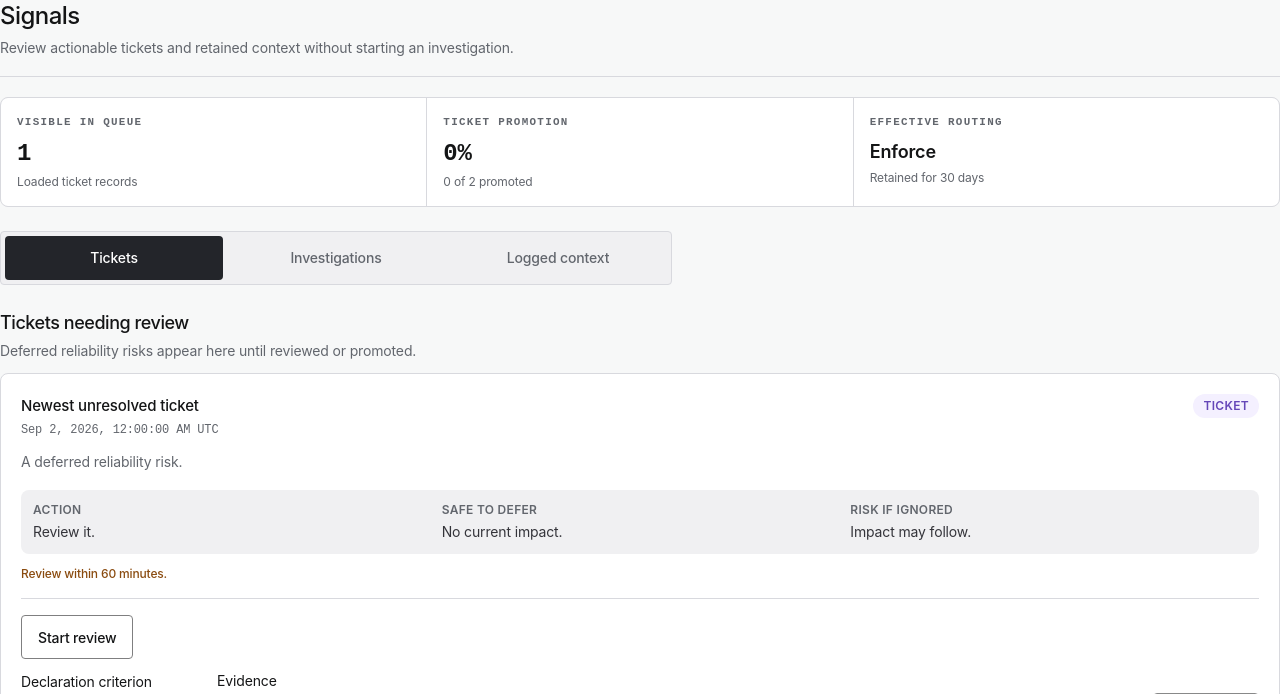
SignalsPanel › refreshes the first page after starting review
The image size is (1280, 694).
Click the button "Start review". click: {"x": 77, "y": 637}
box: [21,615,134,659]
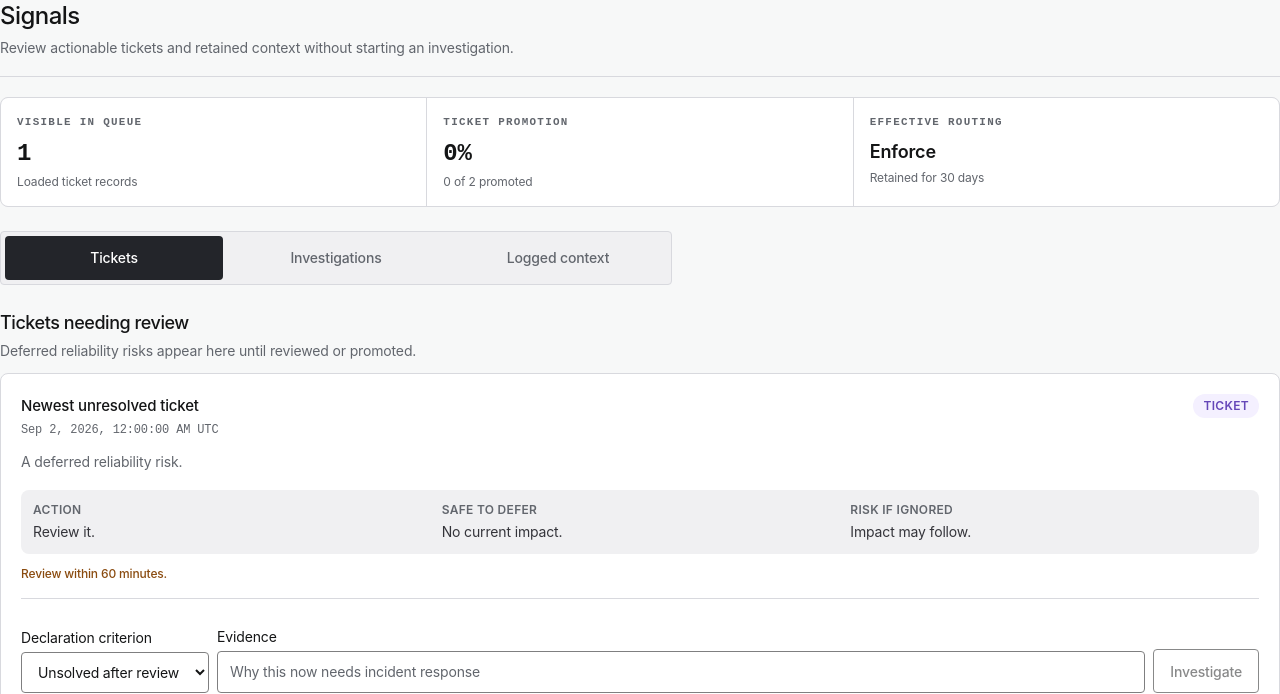
Check: the heading "Newest unresolved ticket" is shown, box [21,394,218,418]
Check: the button "Start review" is gone
